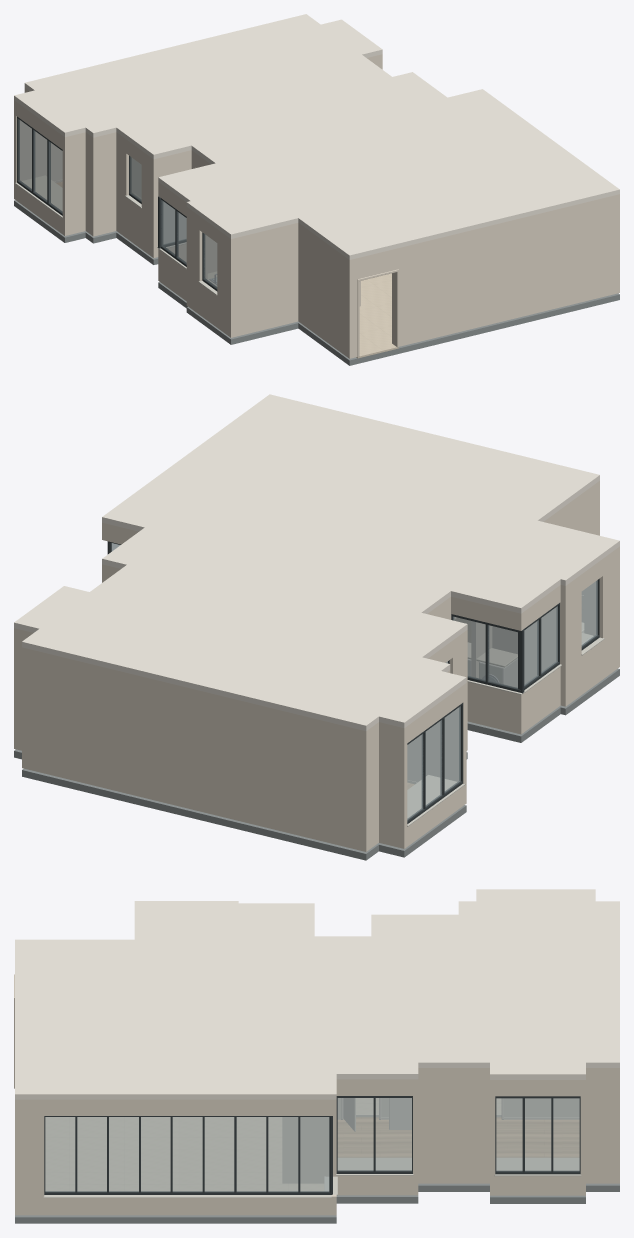
The model's file is architecture-full.glb.
3 views of the same model, one above another, from view 1: azimuth 30°, elevation 25°; view 2: azimuth 150°, elevation 25°; view 3: azimuth 270°, elevation 25° (orthographic). The views are drawn at different scales.
Visible parts, largest first — view 1: 顶板_隐藏后可俯视室内, 墙体_0.00-0.45_00, 墙体_1.20-2.40_02, 墙体_2.40-2.80_00, 墙体_1.20-2.40_08, 墙体_0.50-0.95_04, 住宅楼板, 墙体_0.50-0.95_02, 墙体_1.20-2.40_04, 客餐厅阳台及过道_地面, 墙体_0.95-1.20_02, 墙体_0.95-1.20_06 (+16 smaller); view 2: 顶板_隐藏后可俯视室内, 墙体_1.20-2.40_00, 墙体_2.40-2.80_00, 墙体_0.00-0.45_00, 墙体_0.50-0.95_00, 住宅楼板, 墙体_0.95-1.20_00, 墙体_0.50-0.95_04, 墙体_1.20-2.40_07, 墙体_1.20-2.40_08, 晾晒北窗_玻璃, 墙体_0.45-0.50_00 (+11 smaller); view 3: 顶板_隐藏后可俯视室内, 客餐厅阳台及过道_地面, 墙体_0.00-0.45_00, 墙体_2.40-2.80_00, 住宅楼板, 墙体_1.20-2.40_01, 长辈房_地面, 儿童房东飘窗_玻璃, 儿童房东飘窗_玻璃.001, 儿童房_地面, 客餐厅阳台长窗_玻璃, 客餐厅阳台长窗_玻璃.004 (+25 smaller).
Boxes of the visible parts, <box> form: 顶板_隐藏后可俯视室内: <box>14,14,619,259</box>; 墙体_0.00-0.45_00: <box>14,166,619,358</box>; 墙体_1.20-2.40_02: <box>398,208,619,304</box>; 墙体_2.40-2.80_00: <box>14,54,619,273</box>; 墙体_1.20-2.40_08: <box>217,237,357,316</box>; 墙体_0.50-0.95_04: <box>62,192,360,341</box>; 住宅楼板: <box>14,200,619,365</box>; 墙体_0.50-0.95_02: <box>399,259,619,328</box>; 墙体_1.20-2.40_04: <box>62,146,140,195</box>; 客餐厅阳台及过道_地面: <box>356,273,398,358</box>; 墙体_0.95-1.20_02: <box>399,250,619,313</box>; 墙体_0.95-1.20_06: <box>217,279,357,325</box>; 顶板_隐藏后可俯视室内: <box>14,394,619,731</box>; 墙体_1.20-2.40_00: <box>14,645,407,800</box>; 墙体_2.40-2.80_00: <box>14,481,619,748</box>; 墙体_0.00-0.45_00: <box>14,648,619,851</box>; 墙体_0.50-0.95_00: <box>14,708,407,830</box>; 住宅楼板: <box>14,668,619,860</box>; 墙体_0.95-1.20_00: <box>14,697,407,810</box>; 墙体_0.50-0.95_04: <box>407,621,619,783</box>; 墙体_1.20-2.40_07: <box>471,592,581,654</box>; 墙体_1.20-2.40_08: <box>561,498,619,627</box>; 晾晒北窗_玻璃: <box>488,625,517,688</box>; 墙体_0.45-0.50_00: <box>14,646,619,832</box>; 顶板_隐藏后可俯视室内: <box>15,889,619,1099</box>; 客餐厅阳台及过道_地面: <box>45,1098,501,1190</box>; 墙体_0.00-0.45_00: <box>15,1101,619,1215</box>; 墙体_2.40-2.80_00: <box>15,1068,619,1115</box>; 住宅楼板: <box>15,1183,619,1223</box>; 墙体_1.20-2.40_01: <box>413,1084,495,1145</box>; 长辈房_地面: <box>496,1117,579,1157</box>; 儿童房东飘窗_玻璃: <box>337,1098,373,1170</box>; 儿童房东飘窗_玻璃.001: <box>375,1098,411,1170</box>; 儿童房_地面: <box>338,1117,411,1157</box>; 客餐厅阳台长窗_玻璃: <box>45,1117,75,1191</box>; 客餐厅阳台长窗_玻璃.004: <box>172,1117,202,1191</box>.
Size of the model in its own units: 10.67 by 3.13 by 13.28.
Materials: 25 (6 with a texture image).
